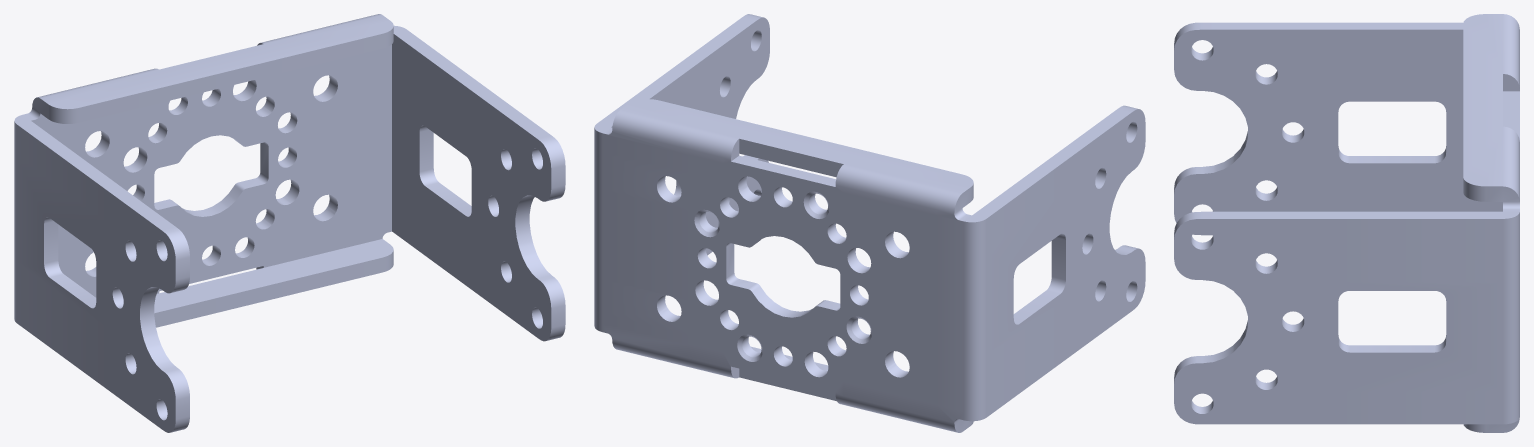
The model's file is rleg_link6.dae.
3 views of the same model, side by side, from view 1: azimuth 30°, elevation 25°; view 2: azimuth 150°, elevation 25°; view 3: azimuth 270°, elevation 25° (orthographic). The views are drawn at different scales.
Parts seen in each view (by area): view 1: node0; view 2: node0; view 3: node0.
Boxes of the visible parts, x1,y1,x2,y2 form: node0: (14,14,565,432); node0: (594,14,1145,432); node0: (1174,14,1519,432).
Bounding box in the file's own units: 0.041 × 0.024 × 0.0305.
